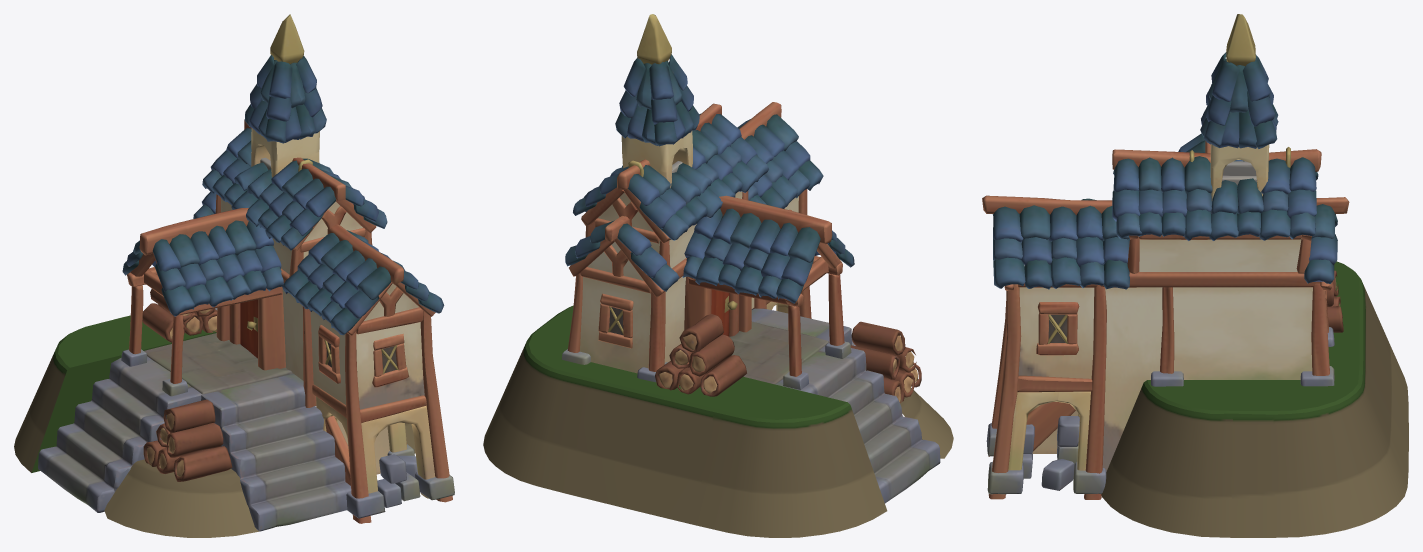
Rendered from SM_TownHall.glb.
3 views of the same model, side by side, from view 1: azimuth 30°, elevation 25°; view 2: azimuth 150°, elevation 25°; view 3: azimuth 270°, elevation 25° (orthographic). The views are drawn at different scales.
Visible parts, largest first — view 1: SM_TownHall; view 2: SM_TownHall; view 3: SM_TownHall.
Boxes of the visible parts, x1,y1,x2,y2 form: SM_TownHall: (14, 14, 454, 537); SM_TownHall: (483, 14, 953, 537); SM_TownHall: (982, 14, 1408, 537).
Bounding box in the file's own units: 8.68 × 9.25 × 7.76.
2 materials, 2 textured.
